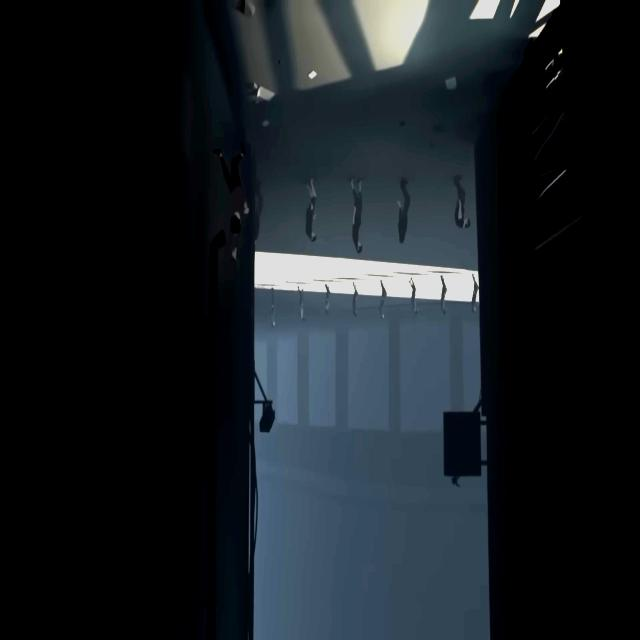boy: (214, 141, 249, 260)
zombie: (351, 178, 364, 254), (454, 177, 470, 229), (398, 178, 410, 244), (306, 177, 317, 242), (409, 277, 418, 315), (379, 279, 387, 319), (298, 286, 306, 321), (440, 275, 447, 314), (472, 274, 478, 313), (352, 282, 358, 316), (325, 284, 331, 316), (271, 287, 275, 327)
